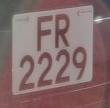2: (18, 50, 38, 94), (35, 49, 55, 89), (53, 47, 73, 85)
9: (71, 43, 89, 85)
F: (32, 13, 56, 56)
R: (52, 11, 75, 52)
